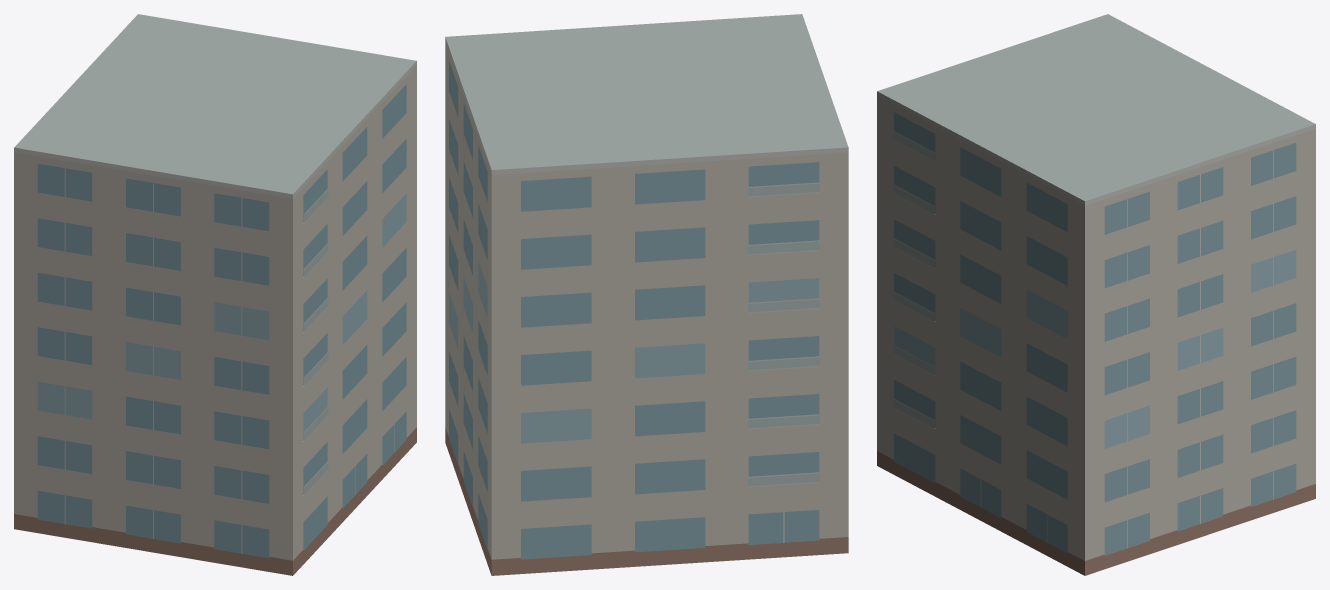
File: survey-upis-32966266.glb
3 renders of one model, left to right at view 1: azimuth 30°, elevation 25°; view 2: azimuth 150°, elevation 25°; view 3: azimuth 270°, elevation 25°, orthographic. The views are drawn at different scales.
Parts seen in each view (by area): view 1: survey-upis-32966266.tmp; view 2: survey-upis-32966266.tmp; view 3: survey-upis-32966266.tmp.
Part boxes in pixels (left/top/right/bottom): survey-upis-32966266.tmp: left=14, top=14, right=416, bottom=575; survey-upis-32966266.tmp: left=445, top=14, right=848, bottom=575; survey-upis-32966266.tmp: left=877, top=14, right=1315, bottom=575.
Size of the model in its own units: 21.56 by 20.1 by 21.34.
